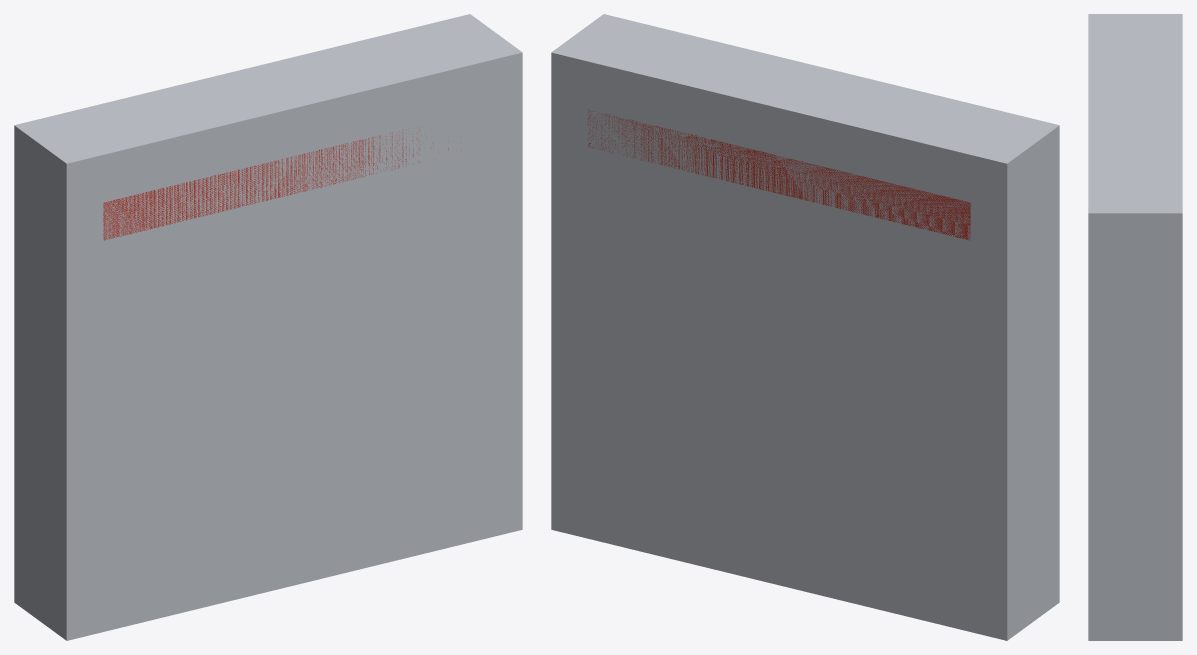
The model's file is blast_door_top_left_open.obj.
3 views of the same model, side by side, from view 1: azimuth 30°, elevation 25°; view 2: azimuth 150°, elevation 25°; view 3: azimuth 270°, elevation 25° (orthographic). The views are drawn at different scales.
Visible parts, largest first — view 1: blast_door_top_left_open; view 2: blast_door_top_left_open; view 3: blast_door_top_left_open.
Part boxes in pixels (<box>): blast_door_top_left_open: <box>14,14,522,640</box>; blast_door_top_left_open: <box>551,14,1059,640</box>; blast_door_top_left_open: <box>1088,14,1182,640</box>.
Bounding box in the file's own units: 1 × 1 × 0.2.
